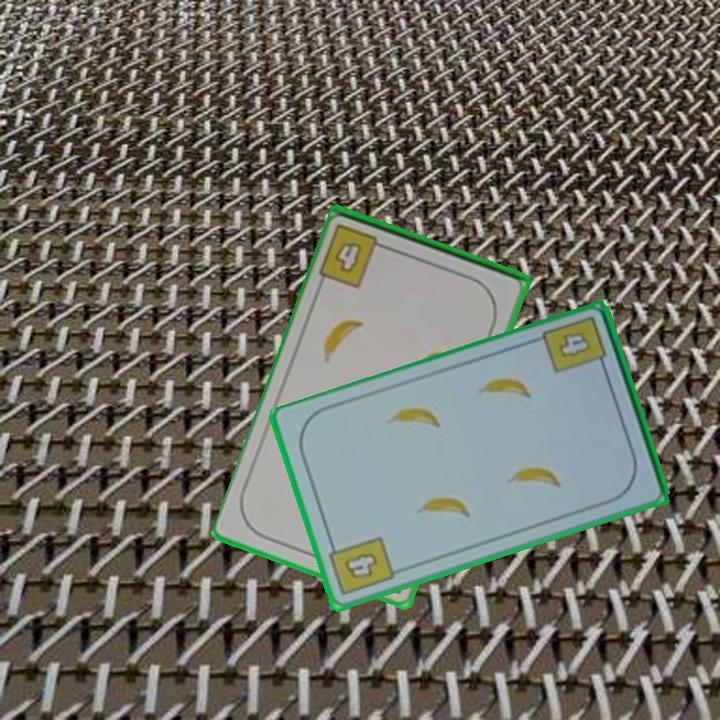4b: (316, 220, 394, 291), (325, 533, 398, 599), (539, 313, 610, 377)
